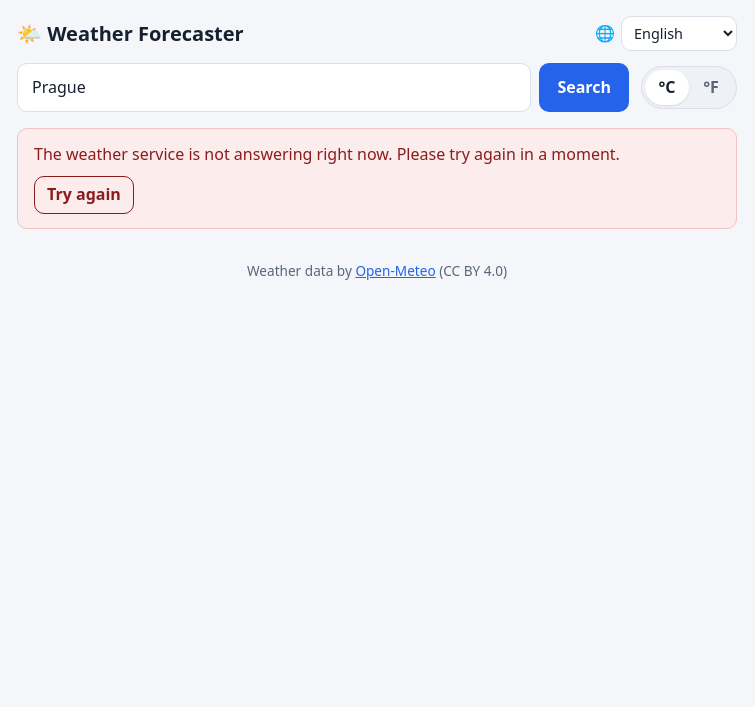
SearchPage › offers a retry when the weather service fails, and recovers
Check: the message shows "not answering", box x1=34 y1=143 x2=620 y2=165
Step 1. Click the button "Try again" → (84, 195), box x1=34 y1=176 x2=134 y2=214
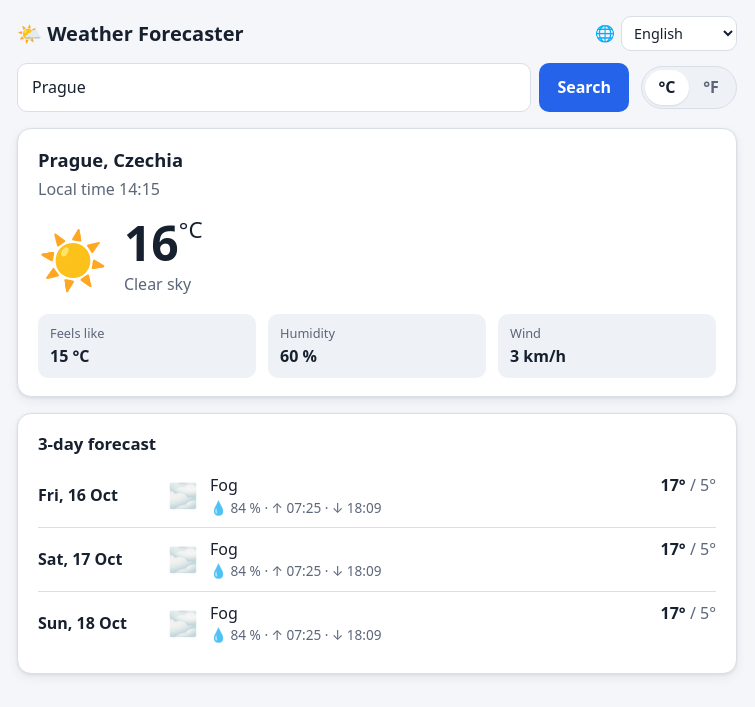
Check: the text "Prague, Czechia" is shown, box x1=38 y1=147 x2=183 y2=172
